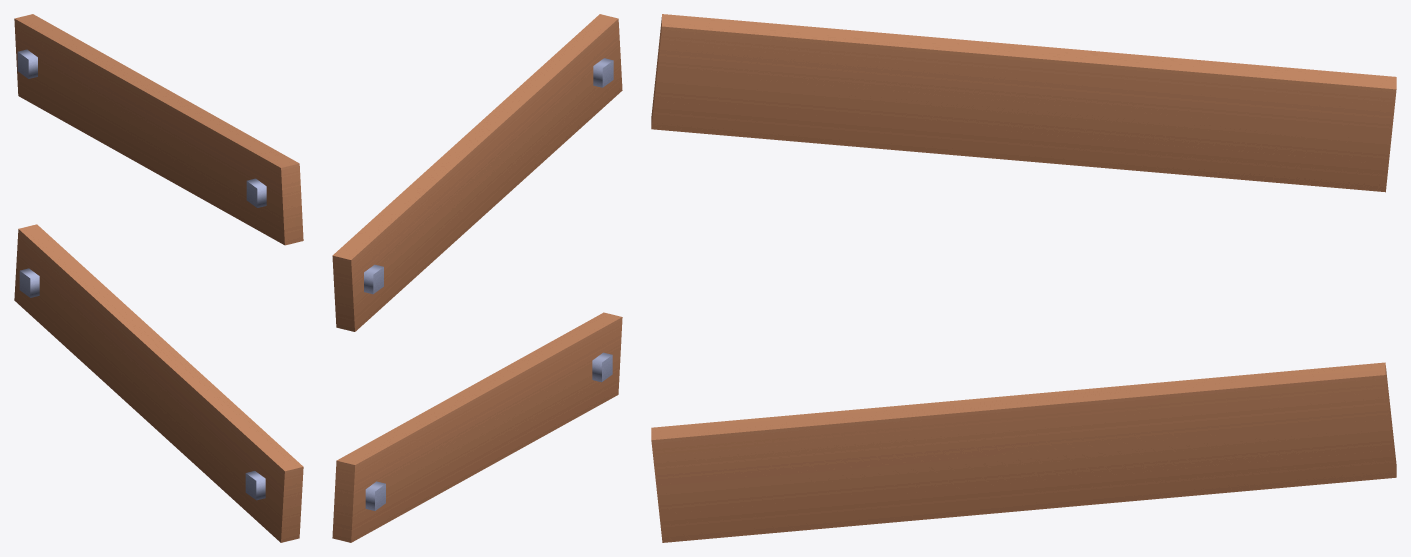
The model's file is barricade-window-a.glb.
The picture shows the model from 3 angles, left to right: view 1: azimuth 30°, elevation 25°; view 2: azimuth 150°, elevation 25°; view 3: azimuth 270°, elevation 25°; orthographic projection. The views are drawn at different scales.
Visible parts, largest first — view 1: barricade-window-a; view 2: barricade-window-a; view 3: barricade-window-a.
Part boxes in pixels (left/top/right/bottom): barricade-window-a: left=14, top=14, right=303, bottom=542; barricade-window-a: left=332, top=14, right=622, bottom=542; barricade-window-a: left=651, top=14, right=1396, bottom=542.
Size of the model in its own units: 0.075 by 0.9602 by 1.26.
Materials: 1 (1 with a texture image).
